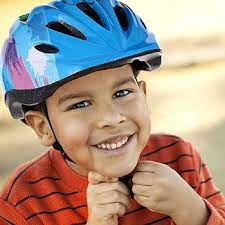helmets: (1, 0, 164, 121)
